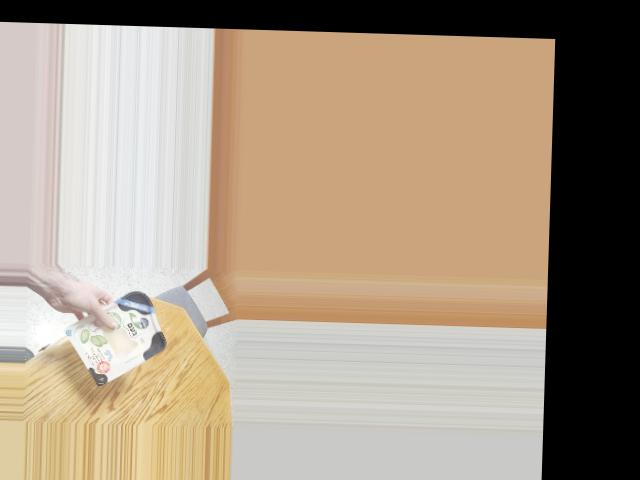cheese: (76, 289, 175, 380)
